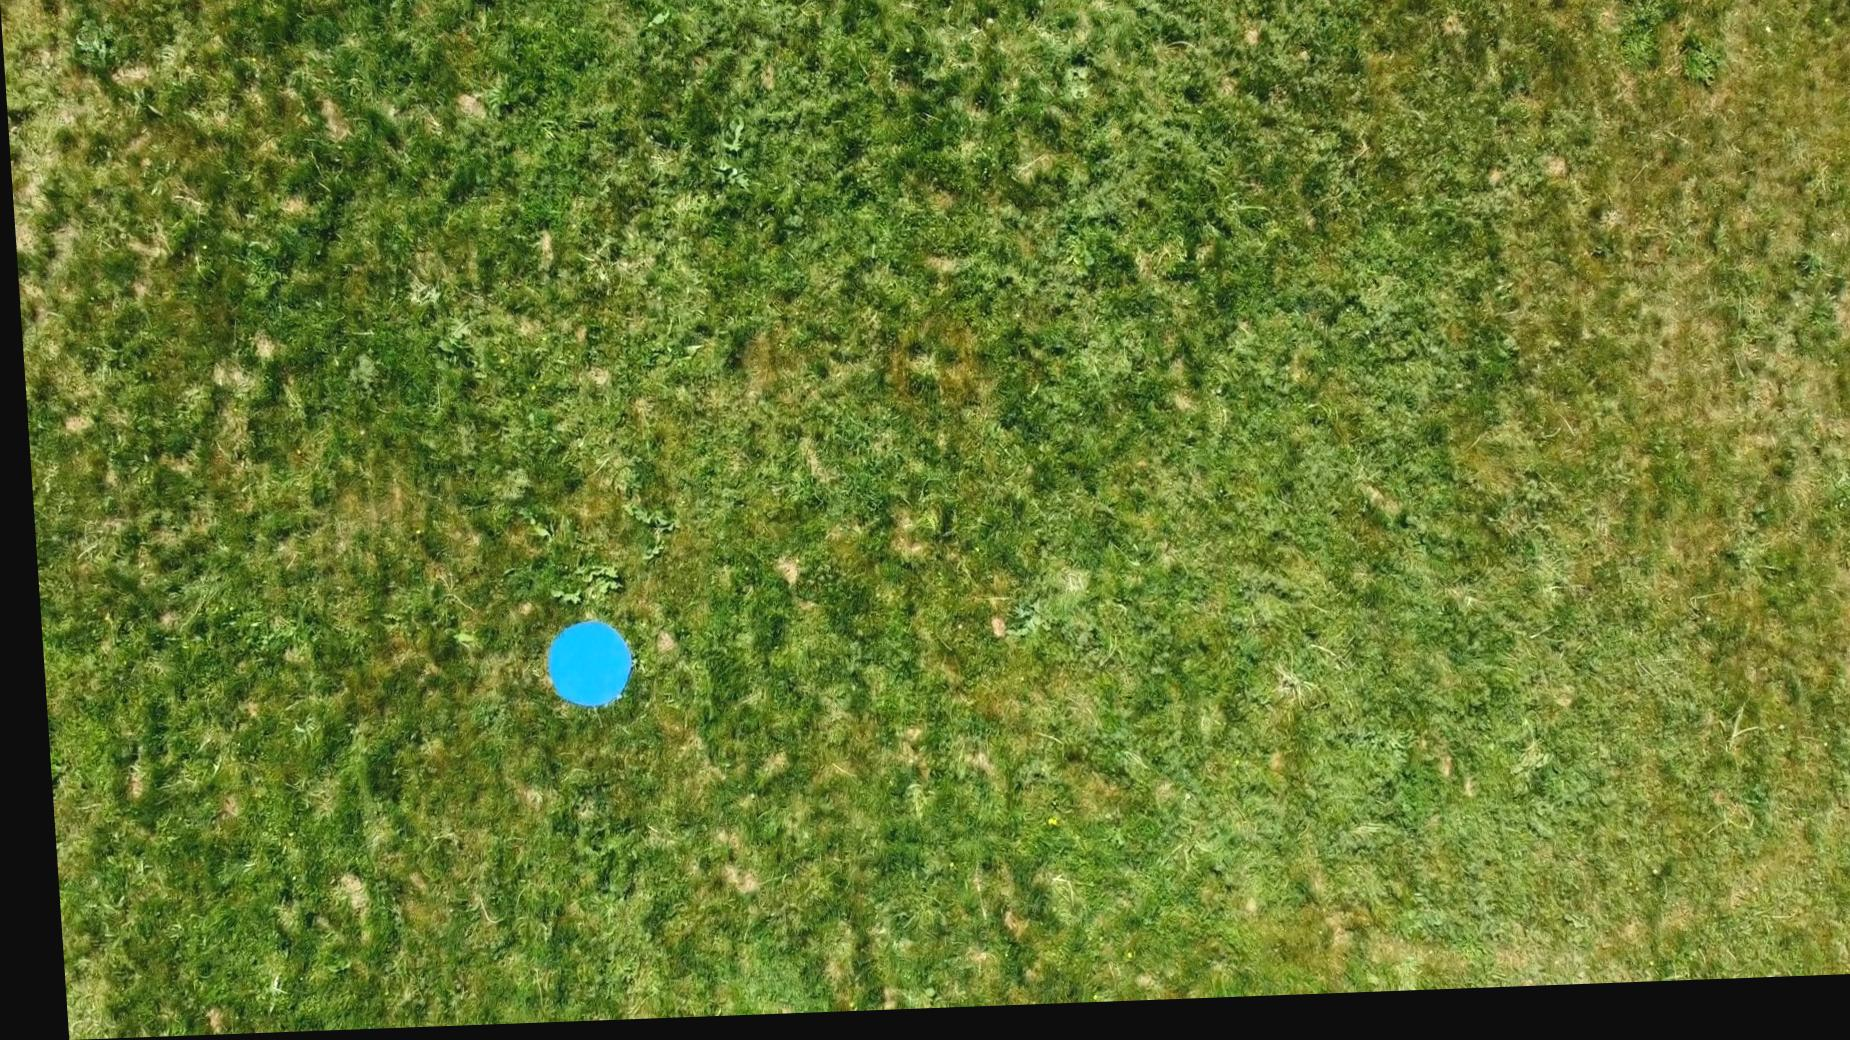Blue: (535, 622, 629, 716)
